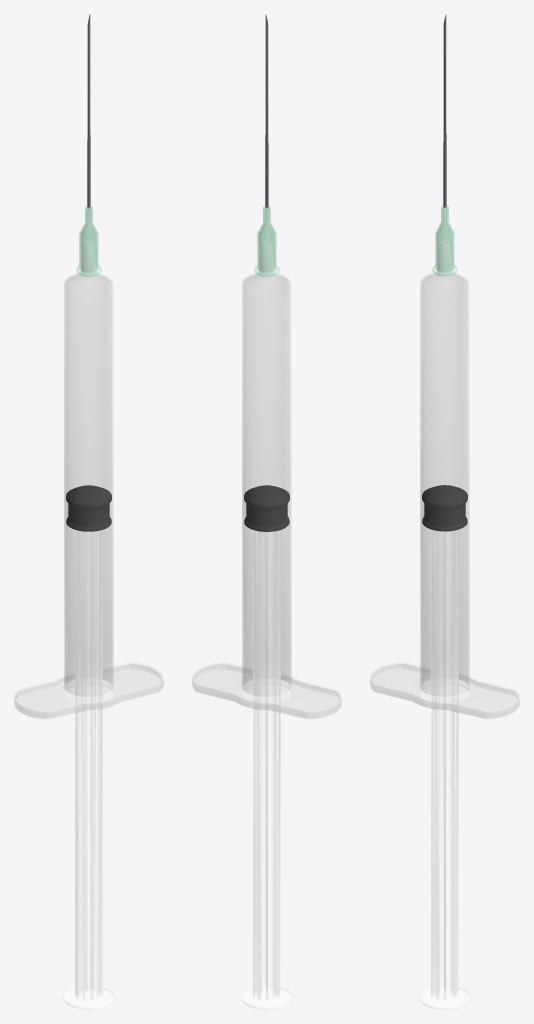
File: syringe.glb
The picture shows the model from 3 angles, left to right: view 1: azimuth 30°, elevation 25°; view 2: azimuth 150°, elevation 25°; view 3: azimuth 330°, elevation 25°; orthographic projection.
Parts seen in each view (by area): view 1: Cylindrical barrel, Plunger, Tip; view 2: Cylindrical barrel, Plunger, Tip; view 3: Cylindrical barrel, Plunger, Tip.
Boxes of the visible parts, x1,y1,x2,y2 form: Cylindrical barrel: (14, 243, 163, 718); Plunger: (63, 485, 114, 1009); Tip: (76, 14, 101, 275); Cylindrical barrel: (192, 243, 341, 718); Plunger: (241, 485, 292, 1009); Tip: (254, 14, 279, 275); Cylindrical barrel: (370, 243, 519, 718); Plunger: (419, 485, 470, 1009); Tip: (432, 14, 457, 275).
Bounding box in the file's own units: 5.61 × 37.62 × 2.51.
